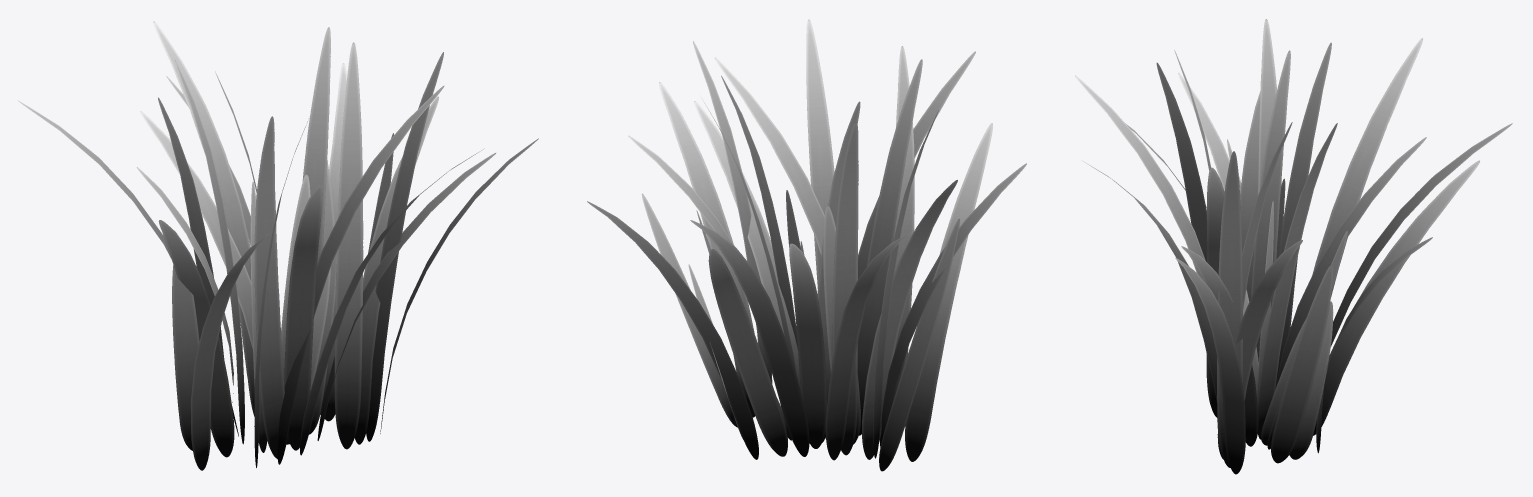
File: Grass.fbx
3 views of the same model, side by side, from view 1: azimuth 30°, elevation 25°; view 2: azimuth 150°, elevation 25°; view 3: azimuth 270°, elevation 25° (orthographic). The views are drawn at different scales.
Parts seen in each view (by area): view 1: Grass02, Grass03, Grass01; view 2: Grass02, Grass03, Grass01; view 3: Grass02, Grass03, Grass01.
Boxes of the visible parts, x1,y1,x2,y2 form: Grass02: (153, 21, 538, 458); Grass03: (18, 42, 444, 470); Grass01: (136, 27, 495, 450); Grass02: (587, 19, 1026, 459); Grass03: (628, 46, 992, 461); Grass01: (688, 51, 975, 471); Grass02: (1081, 42, 1512, 474); Grass03: (1125, 19, 1479, 459); Grass01: (1075, 50, 1426, 459).
Bounding box in the file's own units: 78.67 × 70.89 × 78.1.
